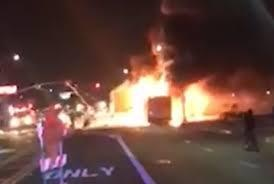fire: (111, 68, 219, 128)
